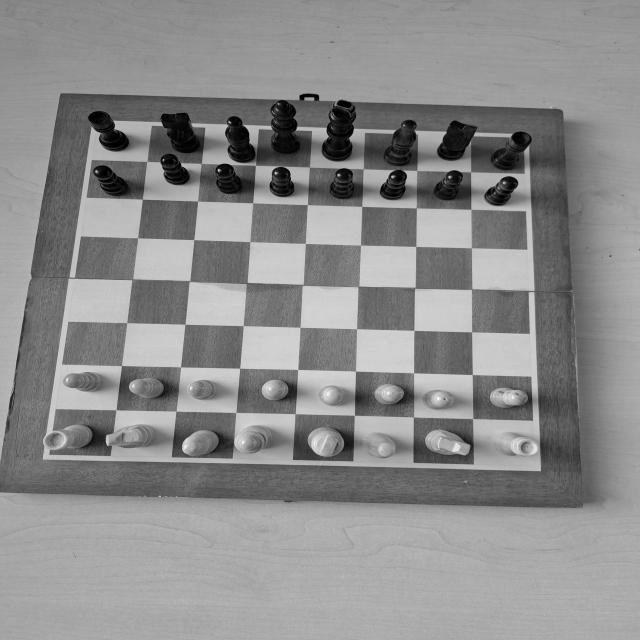chess-table-corners: (504, 128, 534, 152), (86, 116, 118, 134), (523, 458, 544, 474), (40, 448, 60, 462)
